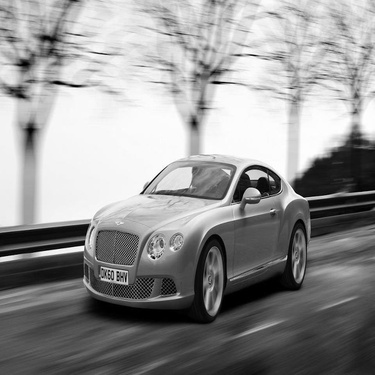car: (77, 142, 313, 327)
